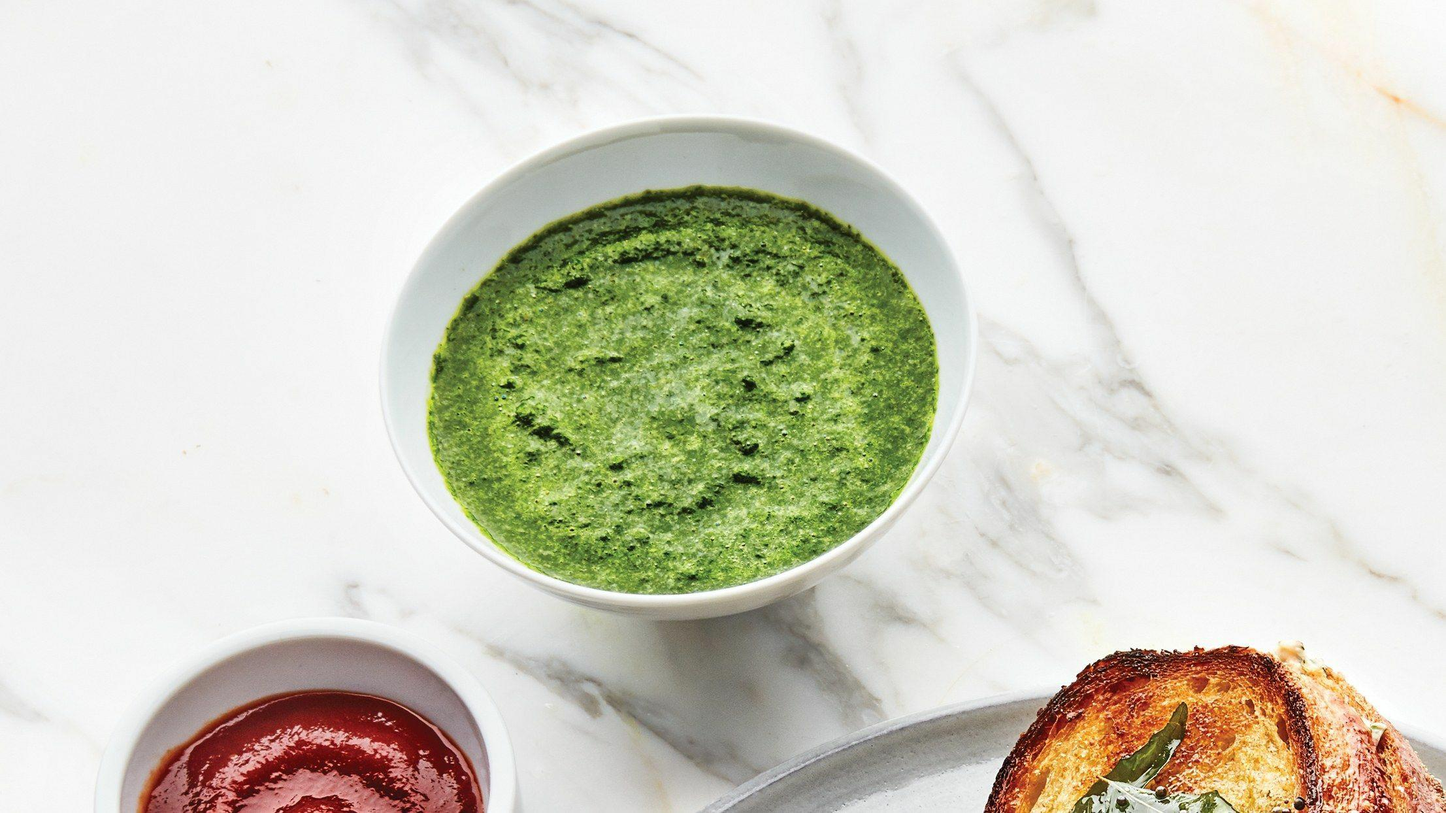GreenChutney: (431, 186, 940, 592)
